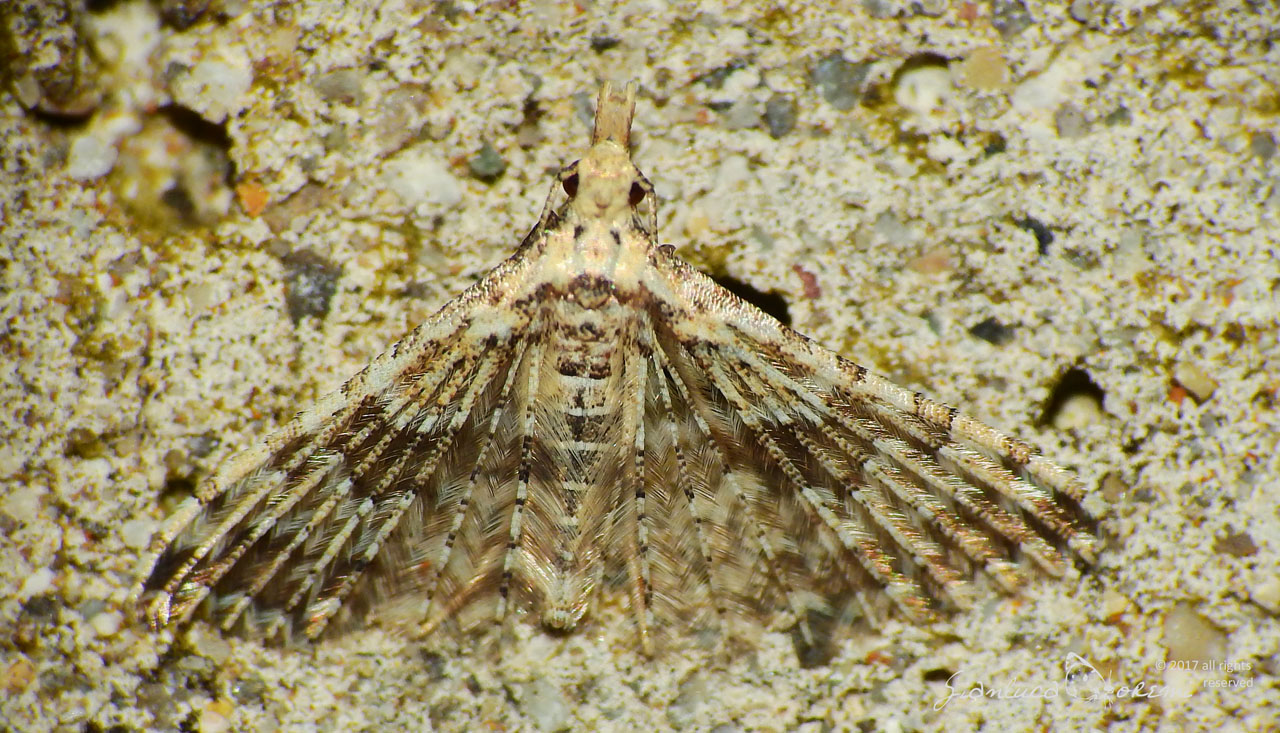Alucitidae: (114, 67, 1094, 660)
moth: (112, 65, 1092, 658)
